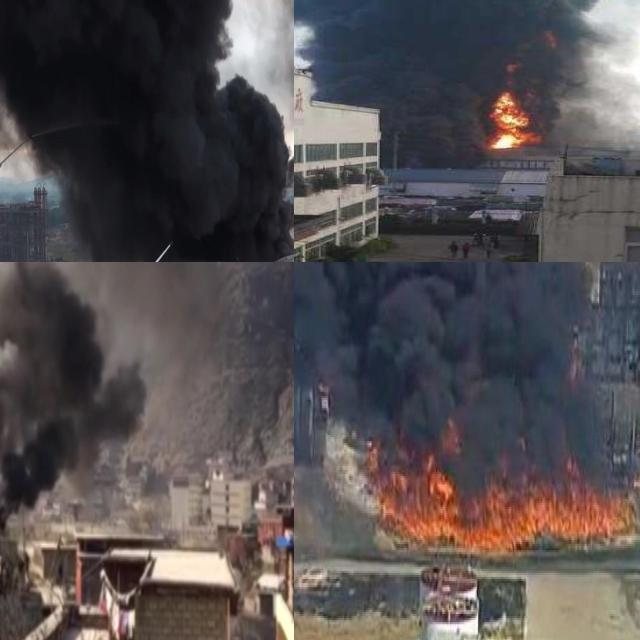fire: (364, 418, 640, 552), (484, 92, 530, 148)
smoke: (0, 0, 294, 262), (294, 262, 623, 473), (294, 0, 640, 167), (0, 262, 206, 498)
